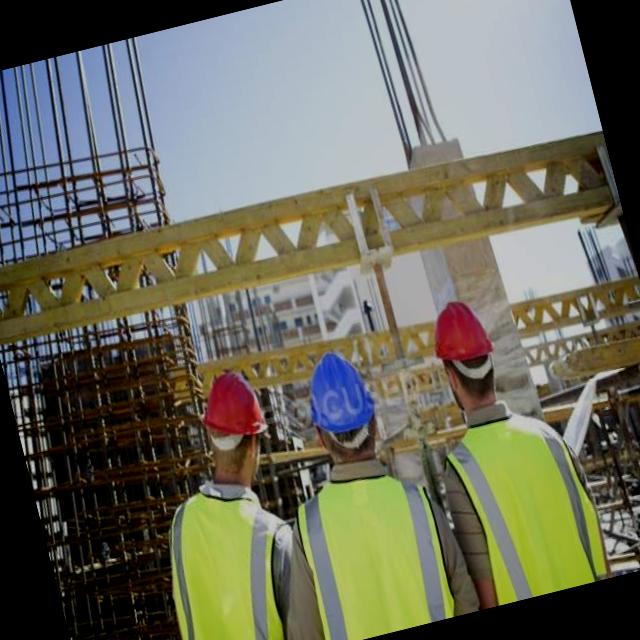helmet: (290, 338, 384, 444), (190, 352, 268, 447), (422, 287, 497, 367)
vest: (283, 439, 463, 640), (443, 402, 602, 608), (158, 470, 317, 640)
